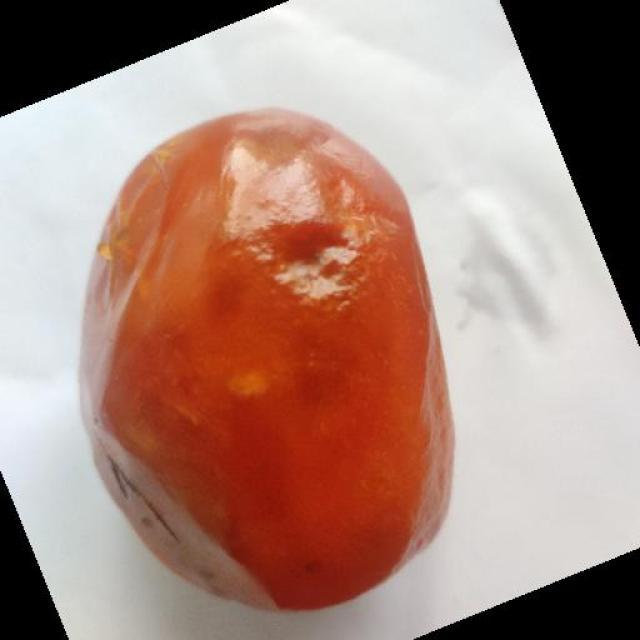Rotten Tomato: (72, 103, 476, 616)
